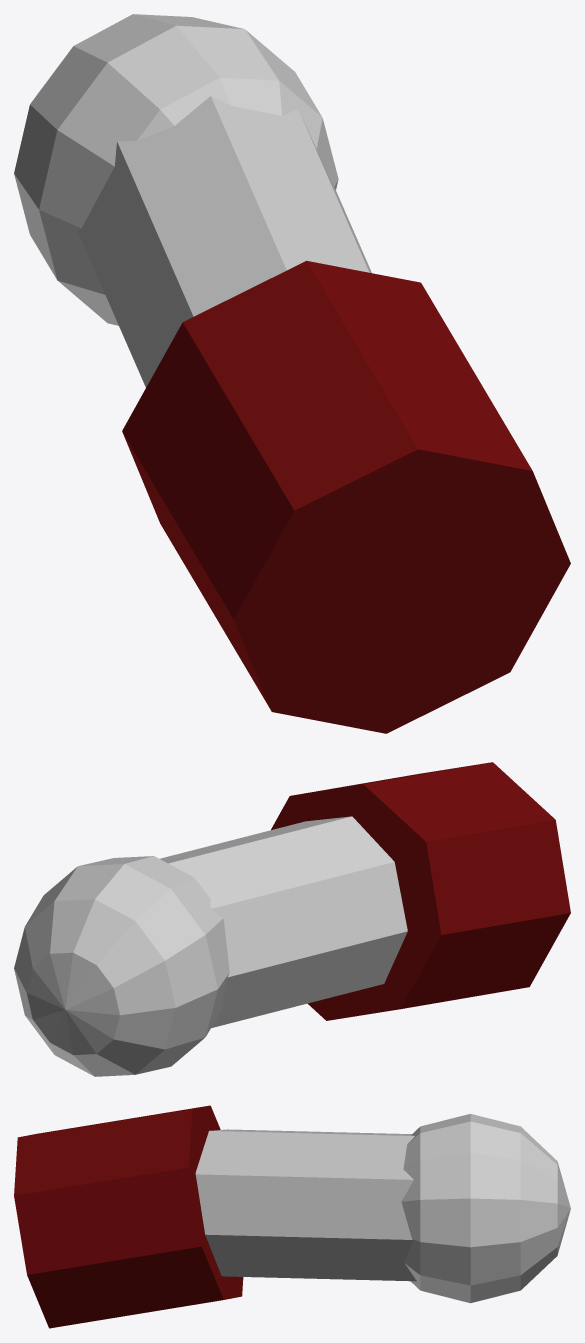
The model's file is Resident4LeftArm.obj.
3 views of the same model, one above another, from view 1: azimuth 30°, elevation 25°; view 2: azimuth 150°, elevation 25°; view 3: azimuth 270°, elevation 25° (orthographic). The views are drawn at different scales.
Visible parts, largest first — view 1: Resident4LeftArm; view 2: Resident4LeftArm; view 3: Resident4LeftArm.
Boxes of the visible parts, x1,y1,x2,y2 form: Resident4LeftArm: (14,14,570,733); Resident4LeftArm: (14,762,570,1076); Resident4LeftArm: (14,1105,570,1328).
Bounding box in the file's own units: 33.37 × 30.65 × 63.77.
